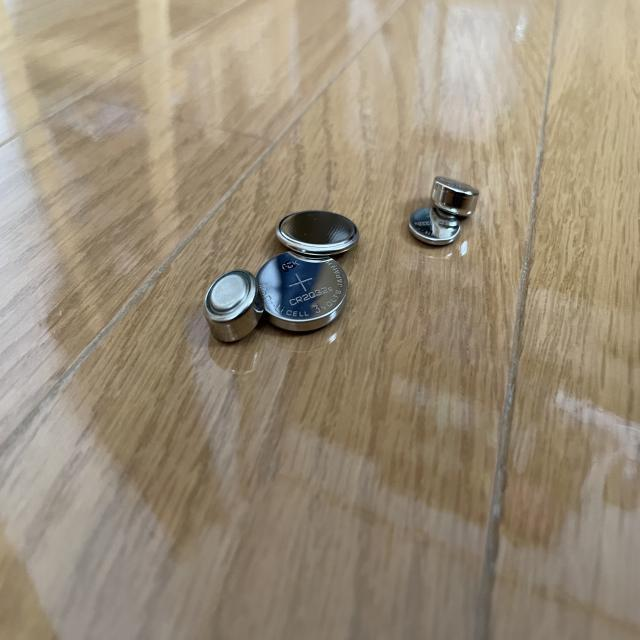COIN: (256, 250, 350, 339), (205, 266, 264, 346), (275, 207, 362, 258), (430, 170, 484, 222), (407, 208, 465, 248)
